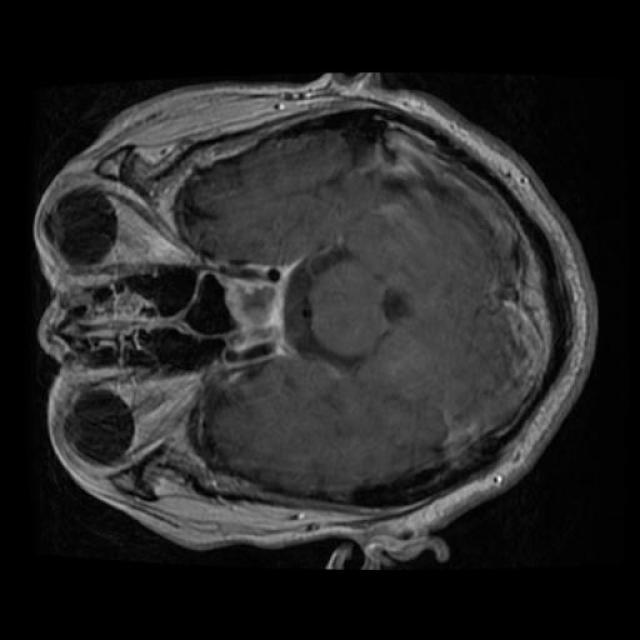Pituitary: (208, 260, 301, 368)
